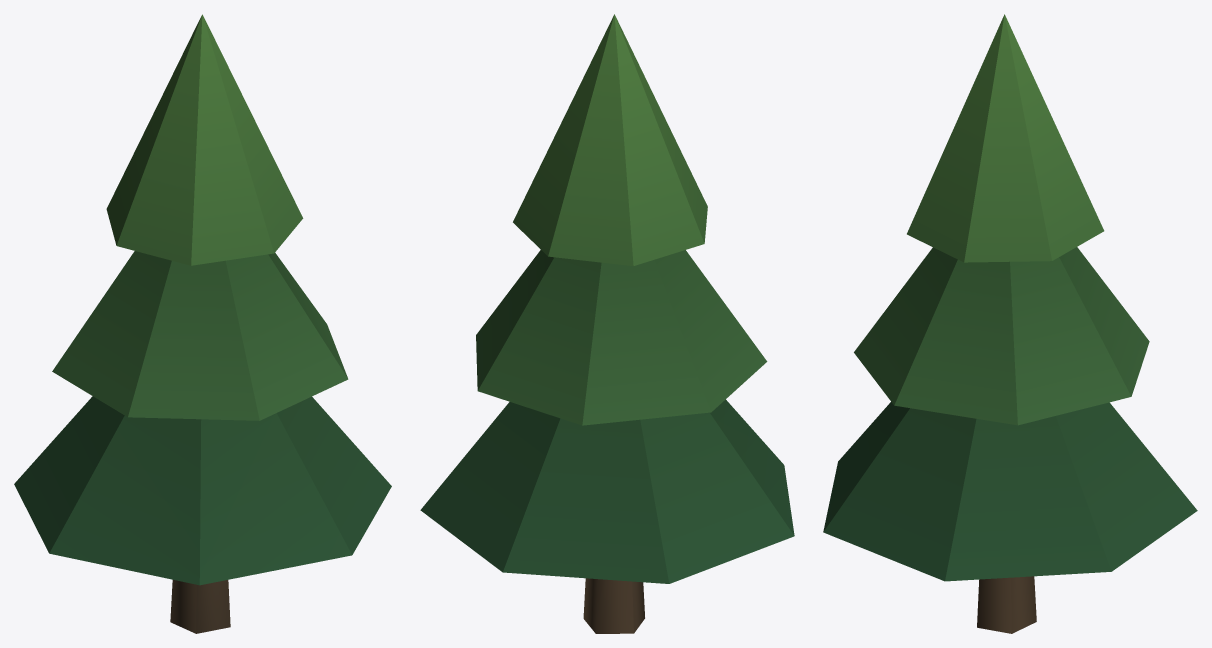
The model's file is prop_pine.glb.
3 renders of one model, left to right at view 1: azimuth 30°, elevation 25°; view 2: azimuth 150°, elevation 25°; view 3: azimuth 270°, elevation 25°, orthographic.
Visible parts, largest first — view 1: prop_pine; view 2: prop_pine; view 3: prop_pine.
Part boxes in pixels (left/top/right/bottom): prop_pine: left=14, top=14, right=391, bottom=633; prop_pine: left=420, top=14, right=794, bottom=633; prop_pine: left=823, top=14, right=1197, bottom=633.
Bounding box in the file's own units: 0.8157 × 1.45 × 0.8114.
